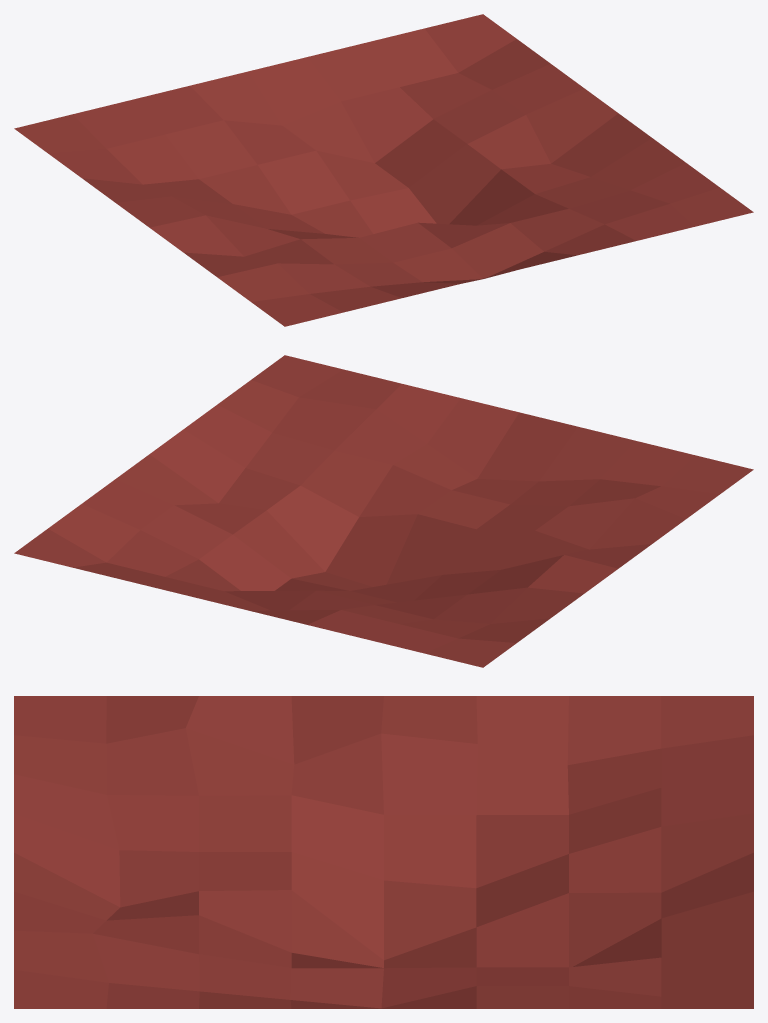
The model's file is Terrain_5_Red.fbx.
3 views of the same model, one above another, from view 1: azimuth 30°, elevation 25°; view 2: azimuth 150°, elevation 25°; view 3: azimuth 270°, elevation 25° (orthographic). The views are drawn at different scales.
Visible parts, largest first — view 1: Terrain_5_Red; view 2: Terrain_5_Red; view 3: Terrain_5_Red.
Boxes of the visible parts, left/top/right/bottom form: Terrain_5_Red: left=14, top=14, right=753, bottom=326; Terrain_5_Red: left=14, top=355, right=753, bottom=667; Terrain_5_Red: left=14, top=696, right=753, bottom=1008.
Size of the model in its own units: 3000 by 506 by 3000.
